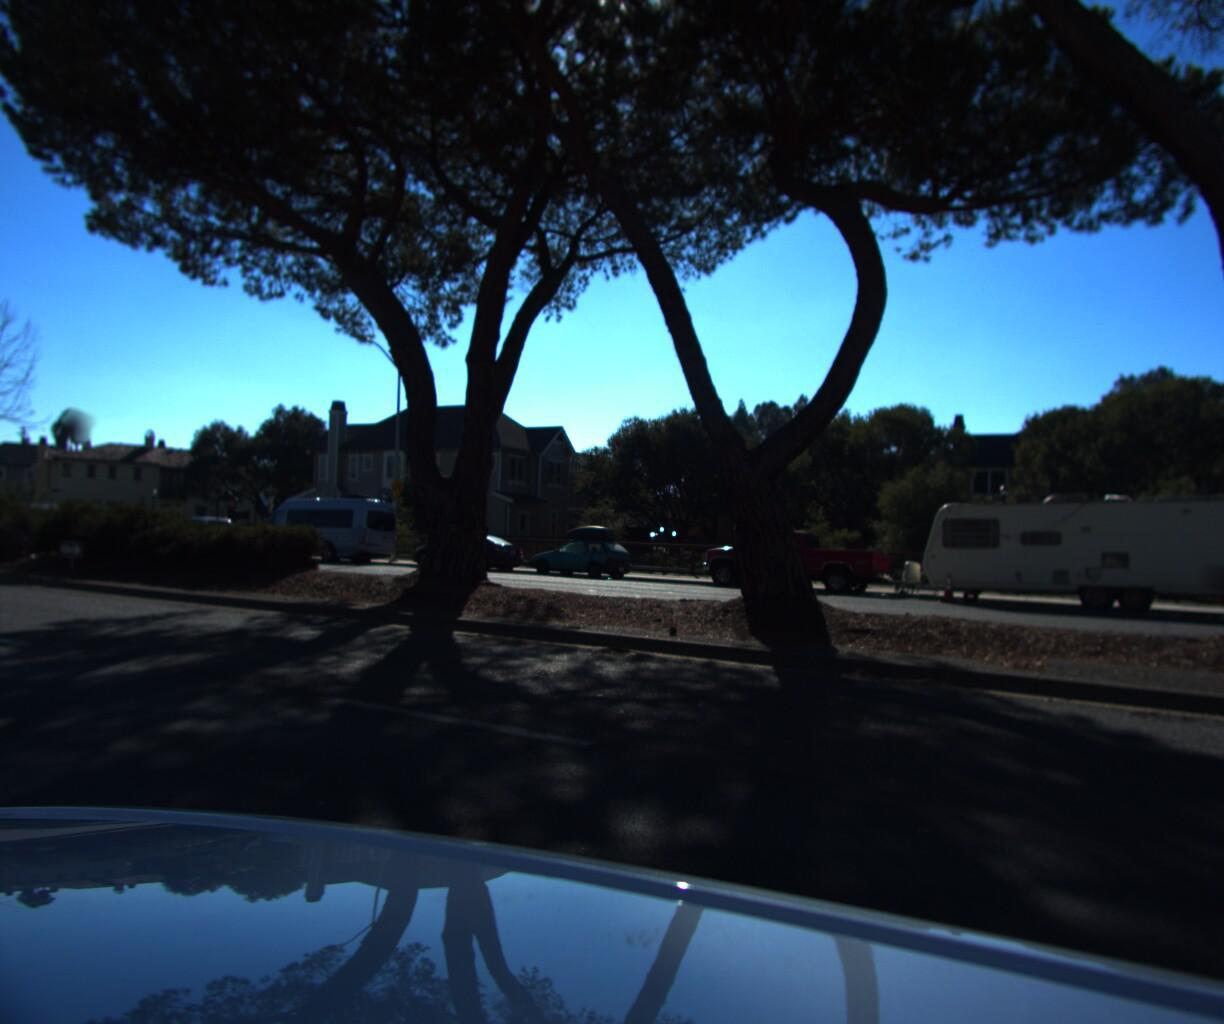car: (687, 521, 899, 597), (237, 490, 404, 567), (516, 521, 640, 583), (399, 527, 531, 574)
other_vehicle: (904, 471, 1224, 625)
